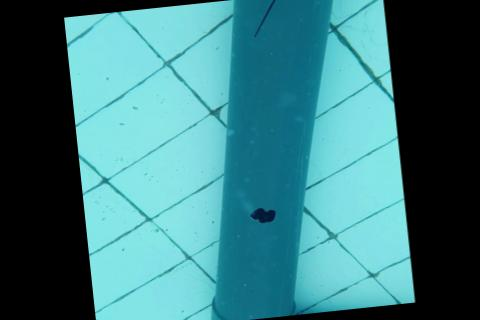kebocoran: (247, 204, 279, 225)
keretakan: (248, 0, 320, 37)
